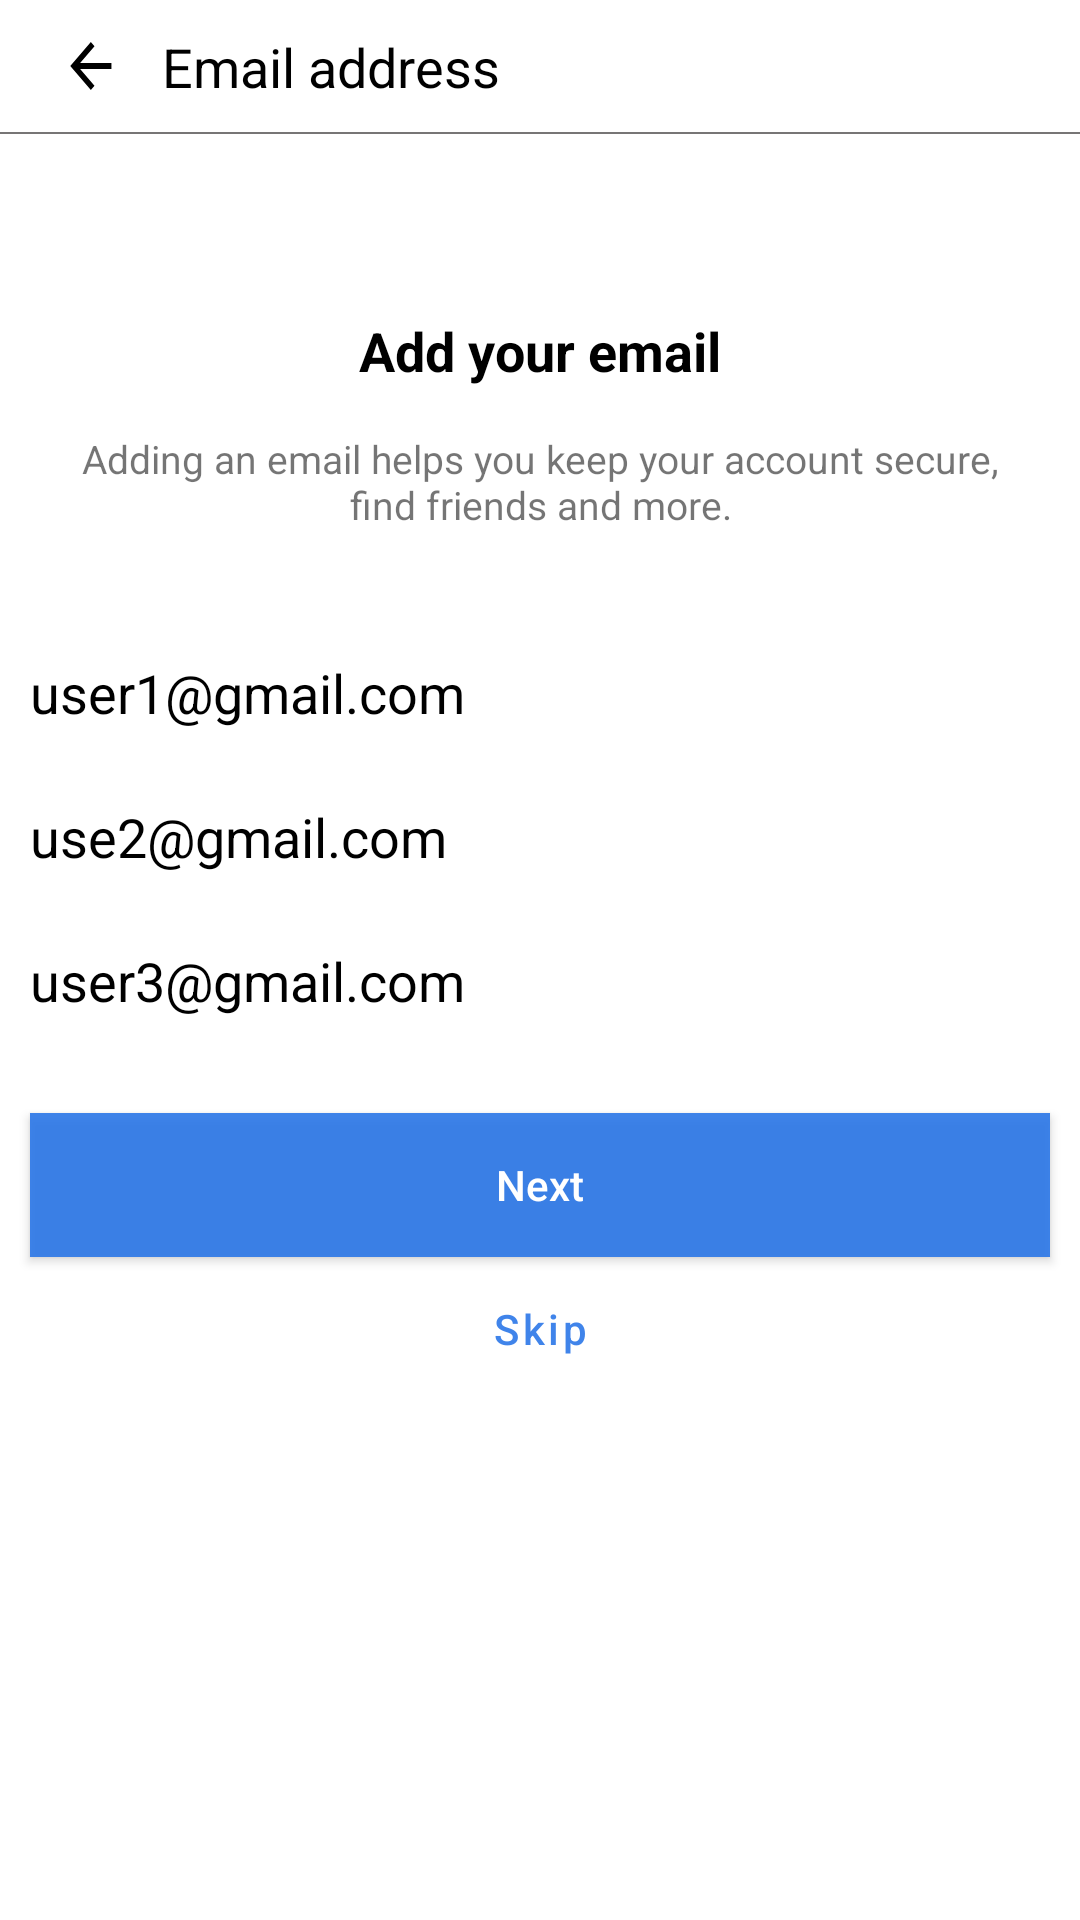

Icon bounding boxes for this 1080 x 1920 phone screenshot, format (x1, y1, x2, y2):
arrow back: (70, 42, 112, 90)
